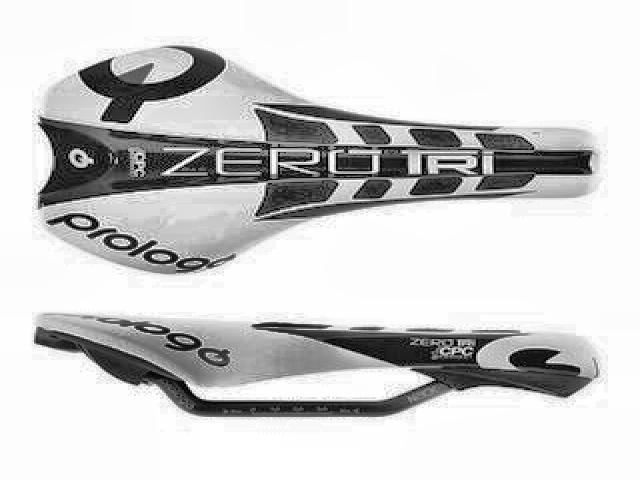saddle: (31, 44, 602, 276), (28, 306, 606, 421)
